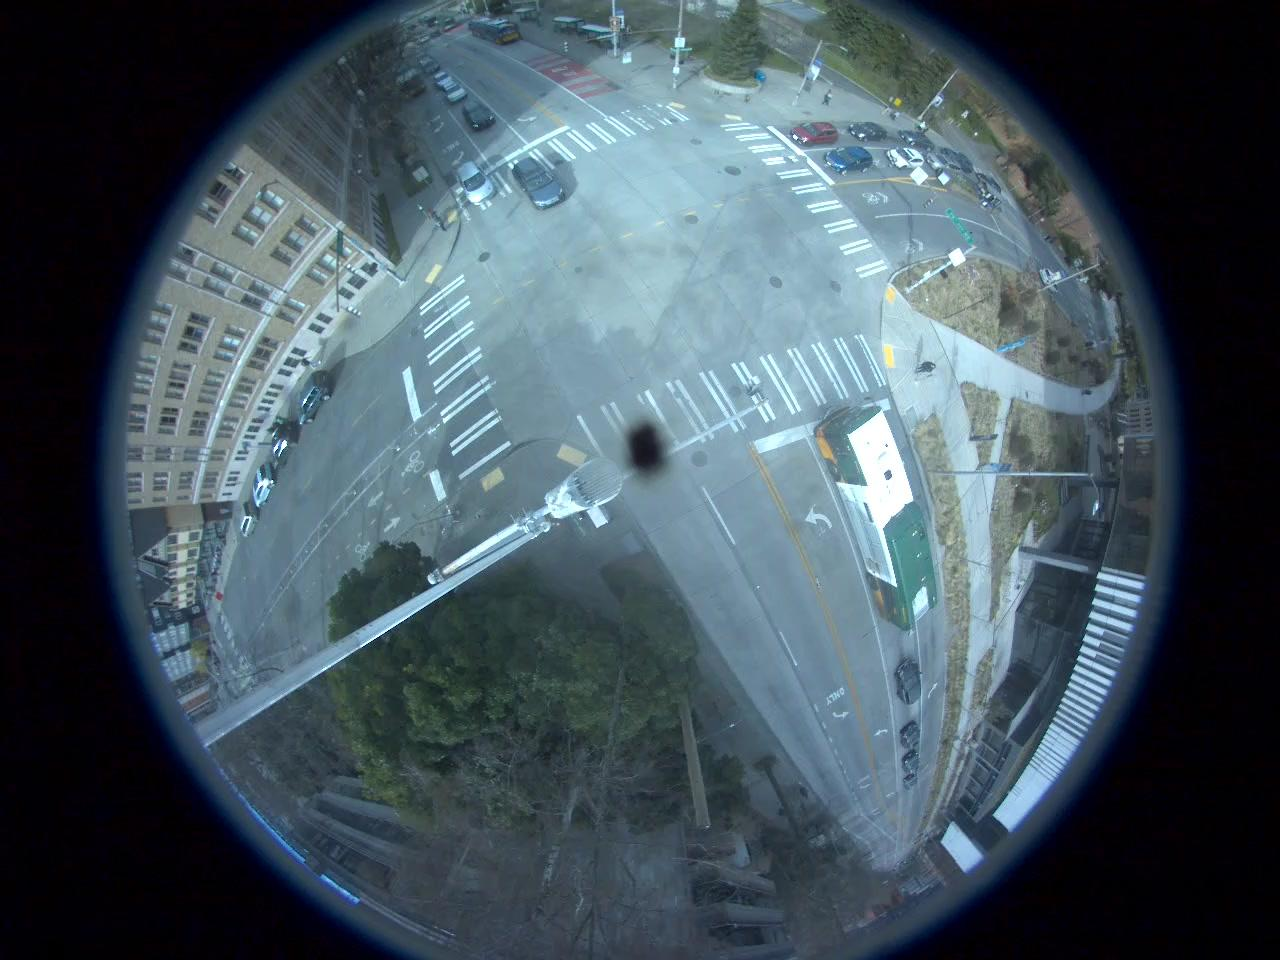bus: (820, 405, 939, 627), (469, 14, 520, 42)
car: (514, 158, 568, 209), (458, 160, 494, 206), (894, 654, 924, 708), (302, 372, 328, 424), (828, 144, 872, 174), (461, 102, 496, 133), (886, 145, 926, 171), (792, 121, 835, 145), (272, 424, 292, 467), (902, 126, 936, 150), (849, 120, 888, 140), (255, 466, 272, 506), (244, 500, 258, 542), (926, 155, 960, 172), (900, 720, 921, 746), (442, 79, 466, 101), (902, 751, 919, 774)
person: (425, 204, 447, 232), (912, 358, 941, 376), (300, 356, 324, 372), (823, 82, 836, 108)
